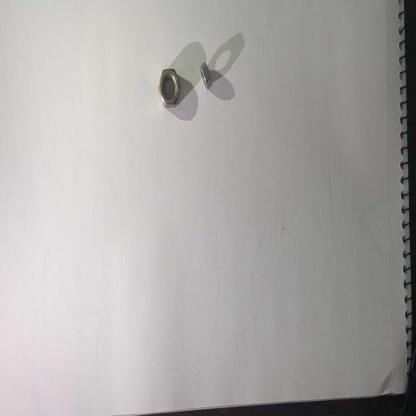NUTS: (153, 55, 188, 128), (198, 57, 220, 92)
